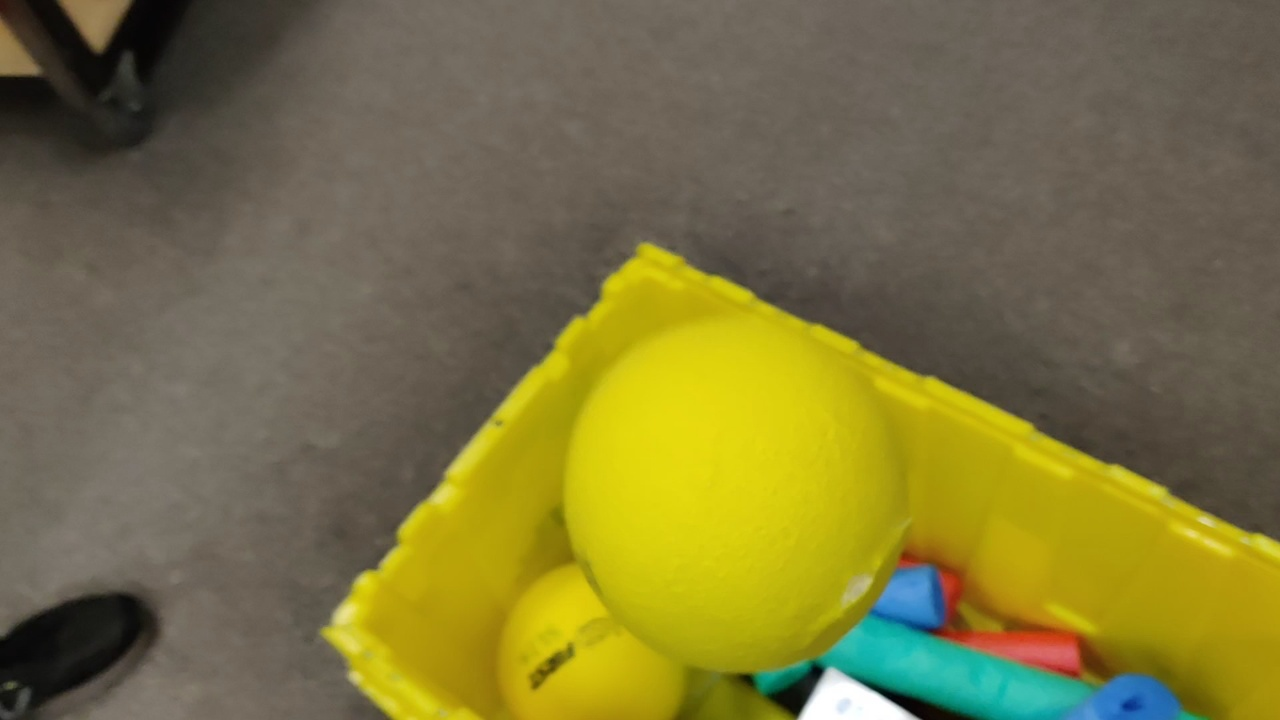Ball: (563, 313, 913, 651), (496, 555, 685, 720)
